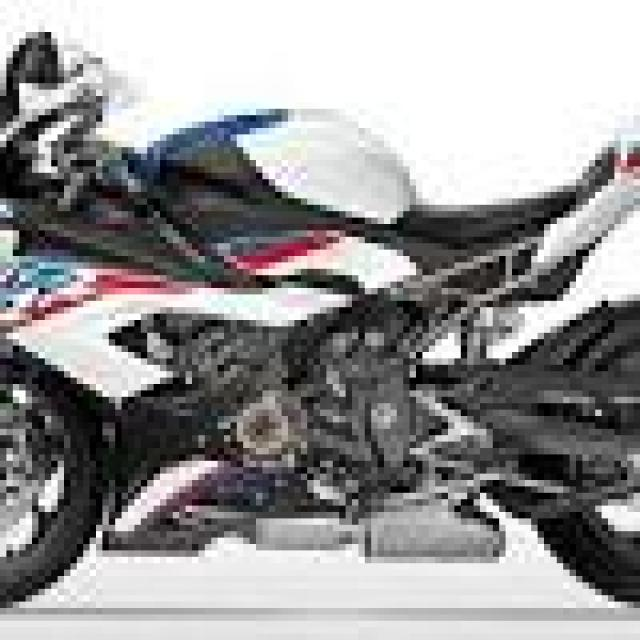Bike: (0, 28, 640, 605)
